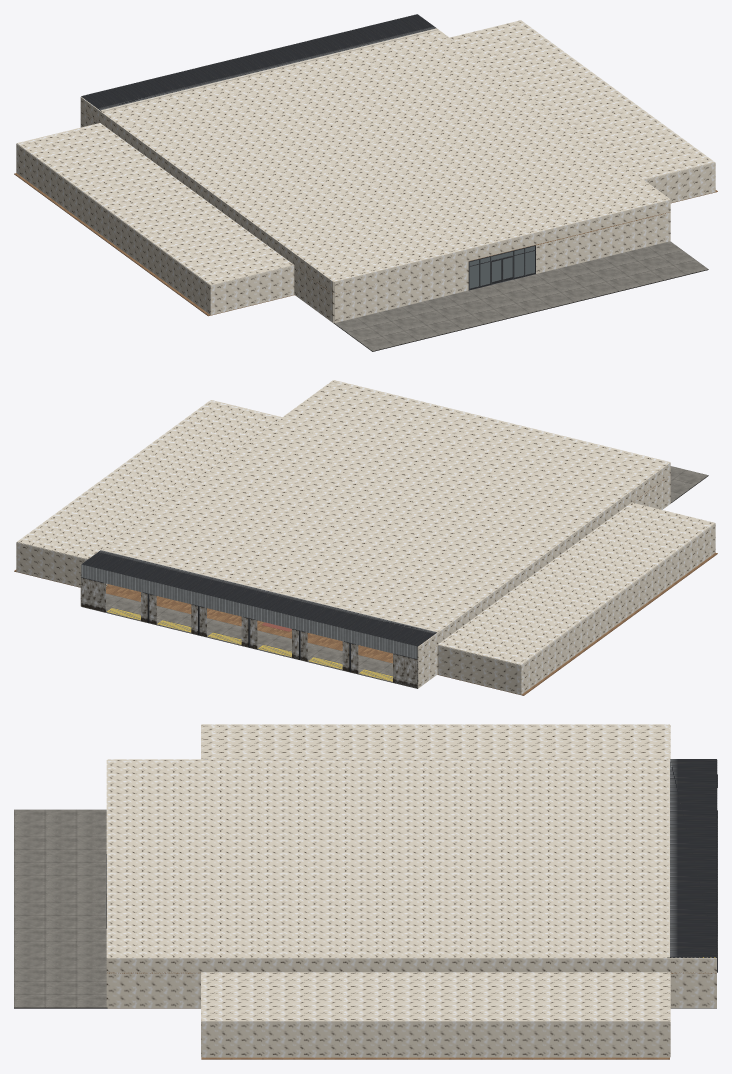
File: Lobby.fbx
The picture shows the model from 3 angles, top to bottom: view 1: azimuth 30°, elevation 25°; view 2: azimuth 150°, elevation 25°; view 3: azimuth 270°, elevation 25°; orthographic projection. The views are drawn at different scales.
Visible parts, largest first — view 1: Ceiling, UnitTops, Floor, Walls, UnitWallsLeft, WallsUpper, Deck, UnitWallsRight, Glass, Boards, Storefront; view 2: Ceiling, UnitTops, UnitWallsLeft, Deck, Floor, Panel, WallsUpper, Facade, Boards, UnitWallsRight, Walls, FloorPaint (+1 smaller); view 3: Ceiling, UnitTops, Floor, UnitWallsRight, WallsUpper, Deck, Walls, Boards.
Boxes of the visible parts, bbox=[...] form: Ceiling: bbox=[101, 28, 669, 281]; UnitTops: bbox=[17, 20, 714, 285]; Floor: bbox=[333, 241, 708, 351]; Walls: bbox=[80, 109, 670, 323]; UnitWallsLeft: bbox=[16, 143, 294, 314]; WallsUpper: bbox=[80, 29, 670, 293]; Deck: bbox=[82, 14, 436, 110]; UnitWallsRight: bbox=[644, 162, 715, 202]; Glass: bbox=[469, 246, 534, 288]; Boards: bbox=[14, 173, 717, 316]; Storefront: bbox=[468, 245, 535, 290]; Ceiling: bbox=[101, 380, 669, 632]; UnitTops: bbox=[17, 400, 714, 665]; UnitWallsLeft: bbox=[437, 523, 715, 694]; Deck: bbox=[82, 550, 436, 646]; Floor: bbox=[81, 466, 708, 688]; Panel: bbox=[81, 564, 417, 658]; WallsUpper: bbox=[80, 380, 670, 658]; Facade: bbox=[81, 578, 417, 687]; Boards: bbox=[14, 552, 717, 695]; UnitWallsRight: bbox=[16, 542, 87, 587]; Walls: bbox=[80, 475, 670, 688]; FloorPaint: bbox=[107, 608, 392, 681]; Ceiling: bbox=[107, 759, 669, 957]; UnitTops: bbox=[201, 724, 669, 1021]; Floor: bbox=[14, 809, 716, 1008]; UnitWallsRight: bbox=[201, 972, 670, 1057]; WallsUpper: bbox=[106, 759, 716, 972]; Deck: bbox=[670, 759, 716, 957]; Walls: bbox=[106, 972, 716, 1008]; Boards: bbox=[108, 1008, 669, 1059].
Size of the model in its own units: 182 by 14.55 by 180.
10 materials, 6 textured.
